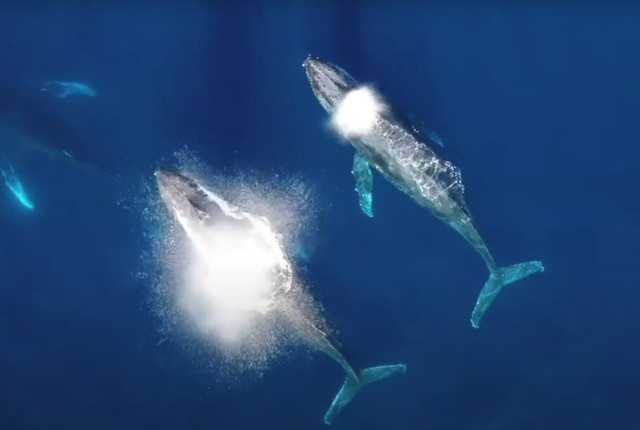whale: (292, 46, 555, 351), (143, 156, 419, 430)
